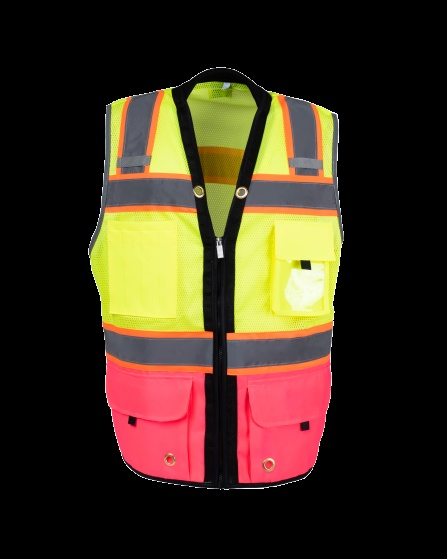safety vest: (95, 88, 334, 486)
